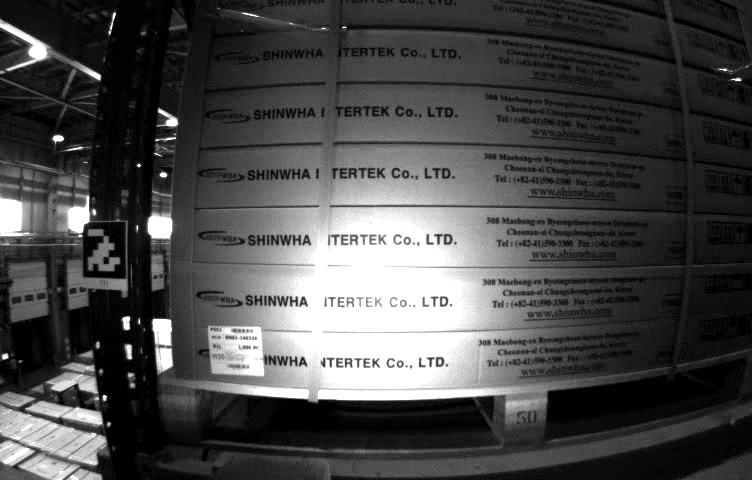True Barcode: (207, 324, 266, 377)
